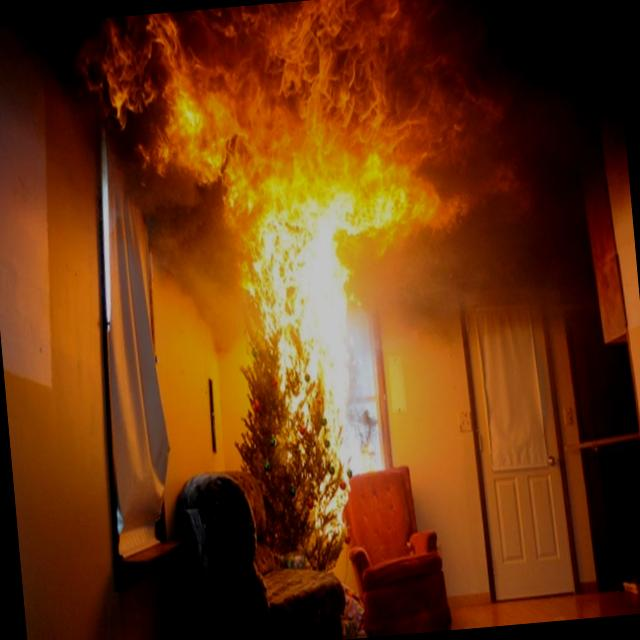fire: (93, 0, 557, 543)
